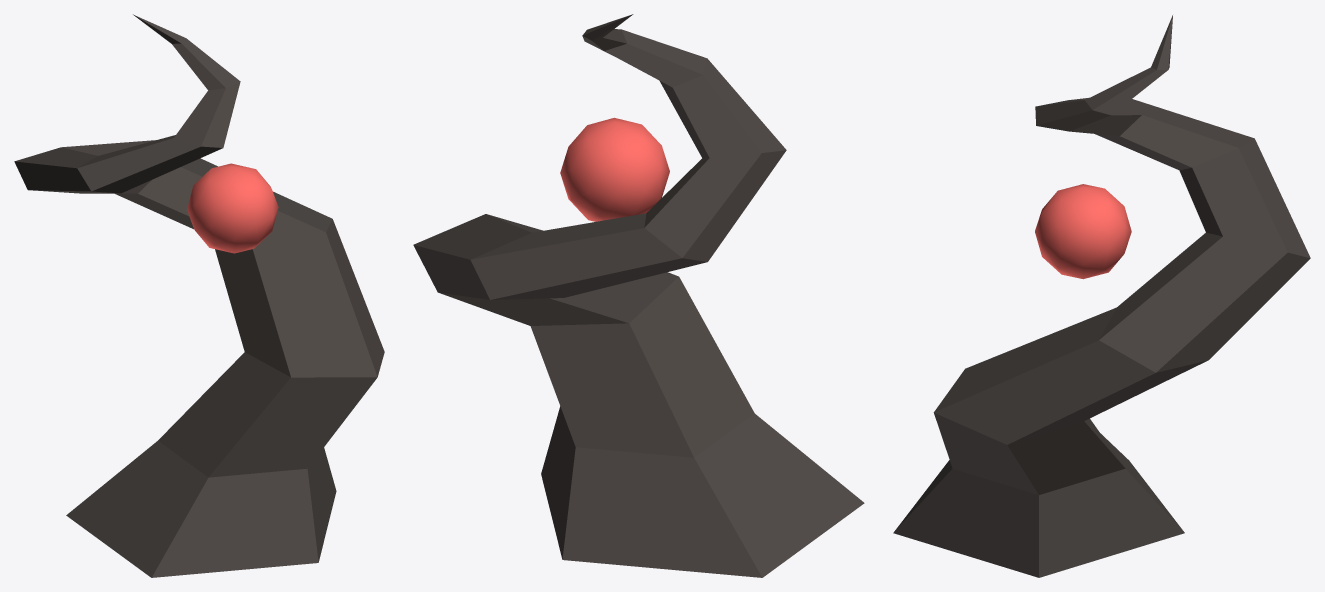
3 renders of one model, left to right at view 1: azimuth 30°, elevation 25°; view 2: azimuth 150°, elevation 25°; view 3: azimuth 270°, elevation 25°, orthographic. The views are drawn at different scales.
Visible parts, largest first — view 1: Object002; view 2: Object002; view 3: Object002.
Boxes of the visible parts, bbox=[...] form: Object002: bbox=[14, 14, 384, 577]; Object002: bbox=[413, 14, 864, 577]; Object002: bbox=[893, 15, 1310, 577].
Bounding box in the file's own units: 146 × 233 × 179.
